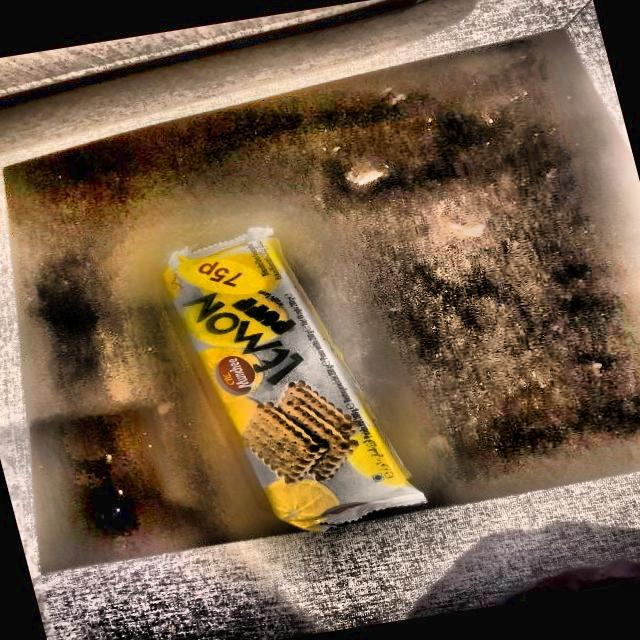lemon puff: (166, 234, 421, 528)
